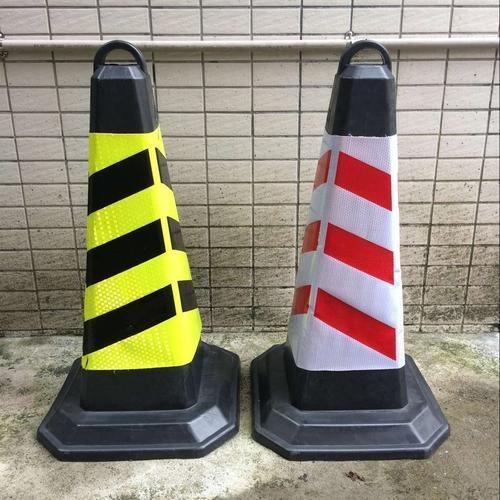cone_barrel: (33, 42, 235, 451), (244, 42, 446, 445)
